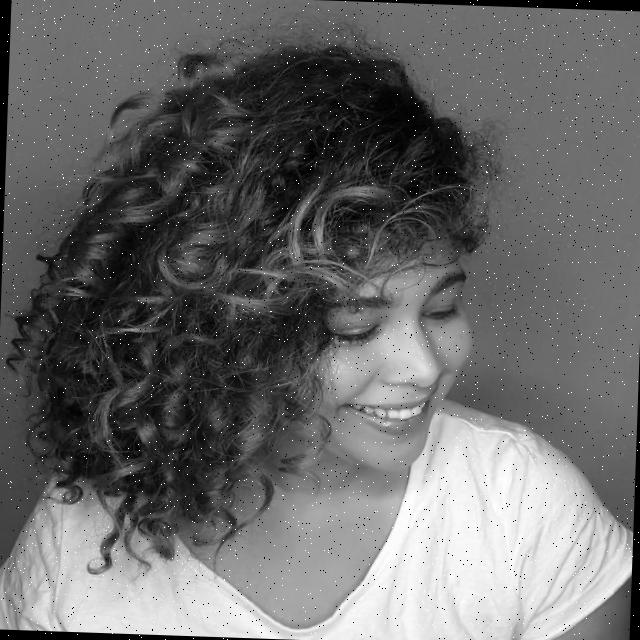Happiness: (281, 227, 479, 479)
